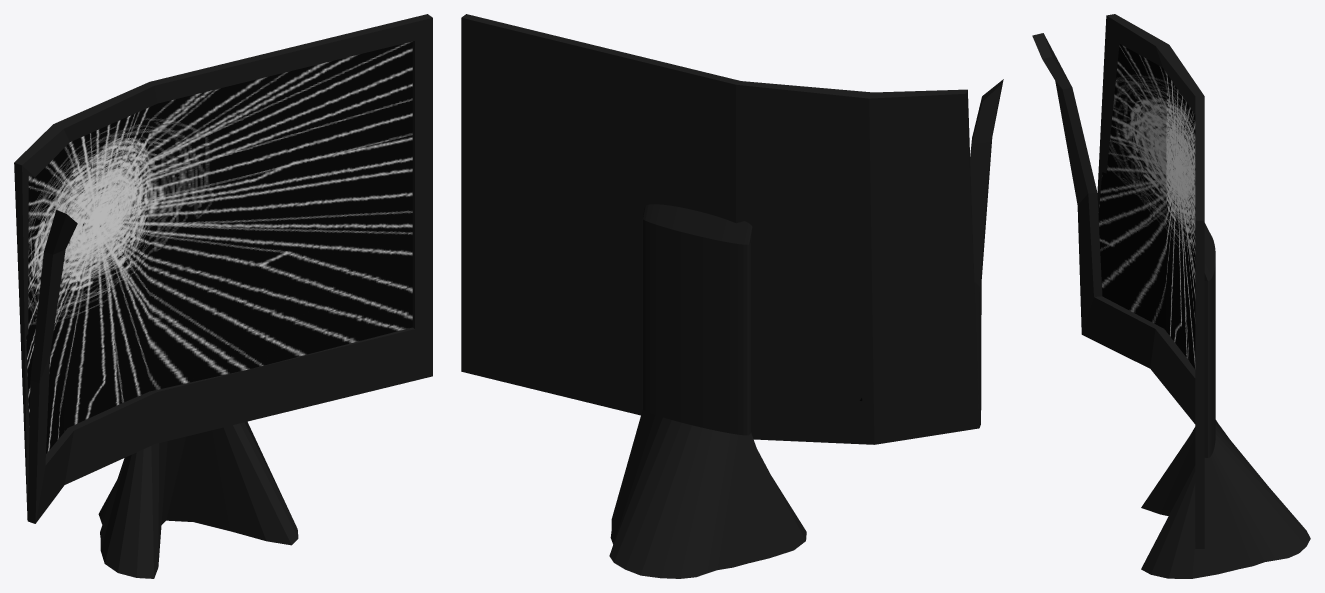
File: screen_broken_2.fbx
The picture shows the model from 3 angles, left to right: view 1: azimuth 30°, elevation 25°; view 2: azimuth 150°, elevation 25°; view 3: azimuth 270°, elevation 25°; orthographic projection. The views are drawn at different scales.
Parts seen in each view (by area): view 1: Plane.002, Cube.002, Cylinder.007; view 2: Cube.002, Cylinder.007; view 3: Plane.002, Cube.002, Cylinder.007.
Part boxes in pixels (left/top/right/bottom): Plane.002: left=26, top=41, right=412, bottom=453; Cube.002: left=14, top=14, right=432, bottom=523; Cylinder.007: left=98, top=421, right=298, bottom=578; Cube.002: left=461, top=14, right=1003, bottom=444; Cylinder.007: left=609, top=204, right=806, bottom=578; Plane.002: left=1098, top=44, right=1195, bottom=369; Cube.002: left=1032, top=14, right=1204, bottom=548; Cylinder.007: left=1141, top=223, right=1310, bottom=578.
Bounding box in the file's own units: 857 × 822 × 489.
